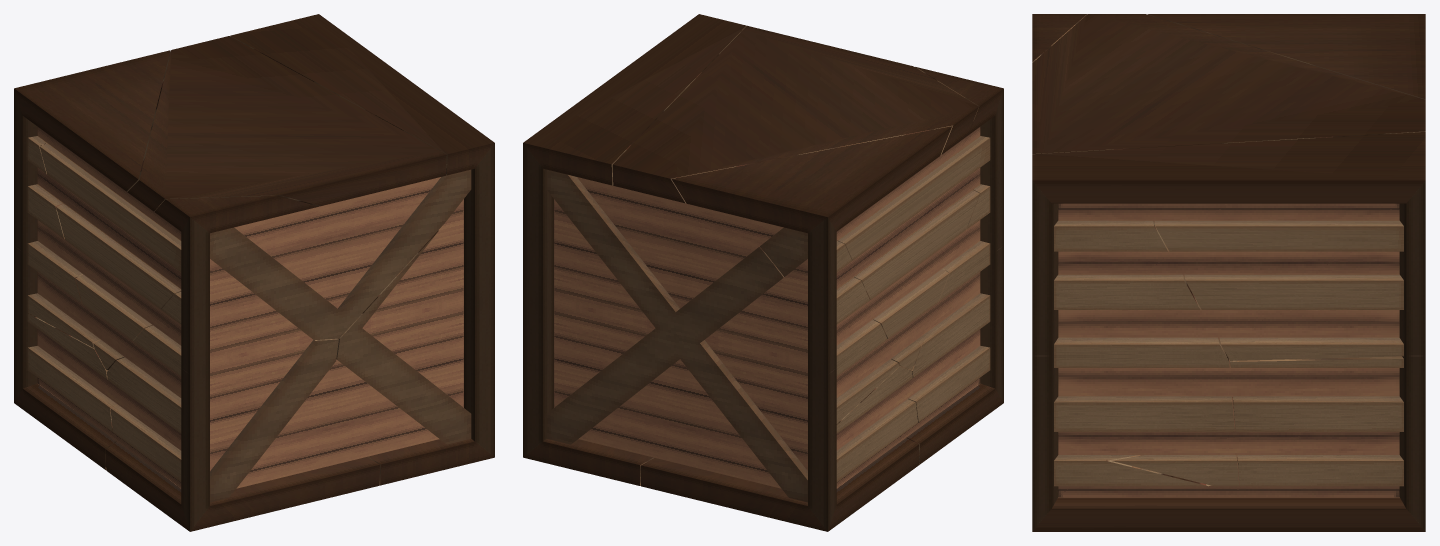
The model's file is crate_pieces.glb.
3 renders of one model, left to right at view 1: azimuth 30°, elevation 25°; view 2: azimuth 150°, elevation 25°; view 3: azimuth 270°, elevation 25°, orthographic. The views are drawn at different scales.
Parts seen in each view (by area): view 1: Frame_cell.004, Side, Side.013, Frame_cell.001, Frame_cell.003, X_cell.001, Side.001, Frame.001, Frame.002, Frame_cell.006, X_cell.002, X_cell (+15 smaller); view 2: Frame_cell.004, X_cell.003, Frame_cell.003, Side.013, Frame_cell.001, Side.005, Side.009, Frame_cell.005, Frame.004, Frame.003, Side.011, Side.007 (+21 smaller); view 3: Frame_cell.004, Side.012, Frame_cell.001, Frame_cell, Frame_cell.003, Frame.003, Frame.002, Planks_cell.003, Planks_cell.015, Planks_cell.024, Side.002, Planks_cell.021 (+10 smaller).
Part boxes in pixels (x1,y1,x2,y2): Frame_cell.004: [127, 36, 446, 211]; Side: [210, 202, 463, 488]; Side.013: [37, 127, 181, 488]; Frame_cell.001: [230, 14, 494, 175]; Frame_cell.003: [14, 50, 170, 191]; X_cell.001: [210, 169, 471, 340]; Side.001: [335, 177, 463, 324]; Frame.001: [181, 217, 209, 531]; Frame.002: [464, 143, 494, 457]; Frame_cell.006: [105, 442, 379, 531]; X_cell.002: [336, 230, 471, 444]; X_cell: [210, 338, 338, 502]; Frame_cell.004: [612, 25, 978, 203]; X_cell.003: [546, 169, 807, 502]; Frame_cell.003: [671, 126, 952, 233]; Side.013: [836, 127, 980, 488]; Frame_cell.001: [523, 14, 746, 185]; Side.005: [554, 193, 682, 324]; Side.009: [682, 348, 807, 488]; Frame_cell.005: [641, 438, 919, 531]; Frame.004: [808, 217, 836, 531]; Frame.003: [523, 143, 553, 457]; Side.011: [554, 301, 682, 439]; Side.007: [729, 214, 807, 362]; Frame_cell.004: [1032, 14, 1425, 154]; Side.012: [1058, 203, 1399, 497]; Frame_cell.001: [1032, 132, 1425, 203]; Frame_cell: [1032, 497, 1425, 531]; Frame_cell.003: [1148, 14, 1425, 99]; Frame.003: [1399, 180, 1425, 531]; Frame.002: [1032, 180, 1058, 531]; Planks_cell.003: [1154, 220, 1403, 251]; Planks_cell.015: [1184, 274, 1403, 309]; Planks_cell.024: [1054, 396, 1234, 431]; Side.002: [1058, 203, 1226, 337]; Planks_cell.021: [1232, 396, 1403, 431].
Size of the model in its own units: 0.76 by 0.75 by 0.76.
Materials: 2 (2 with a texture image).
